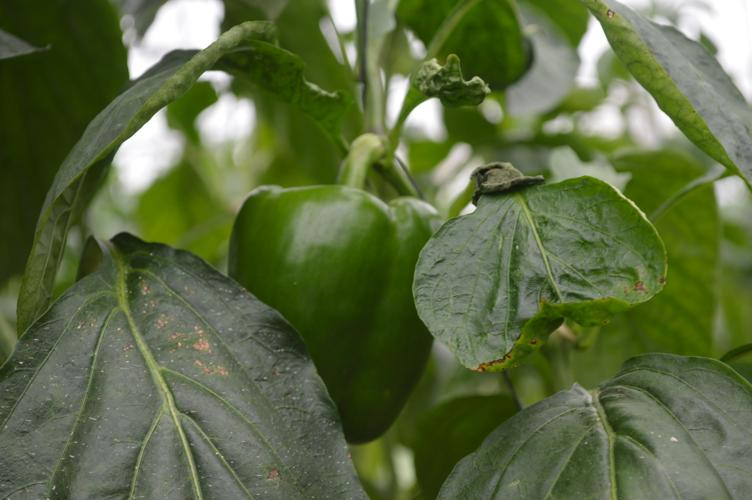BellPepper: (221, 173, 451, 458)
